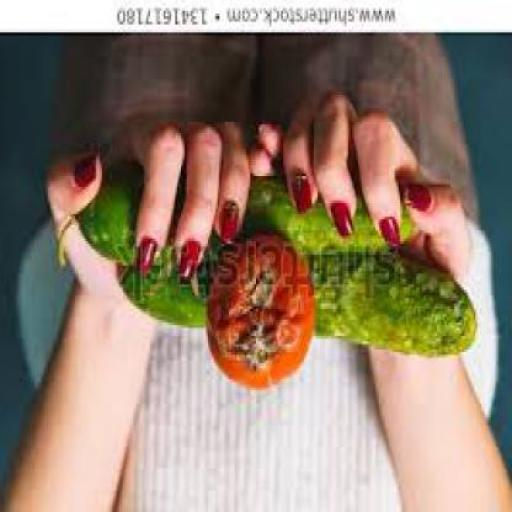biodegradable: (118, 241, 480, 361), (62, 171, 420, 268), (208, 238, 318, 393)
